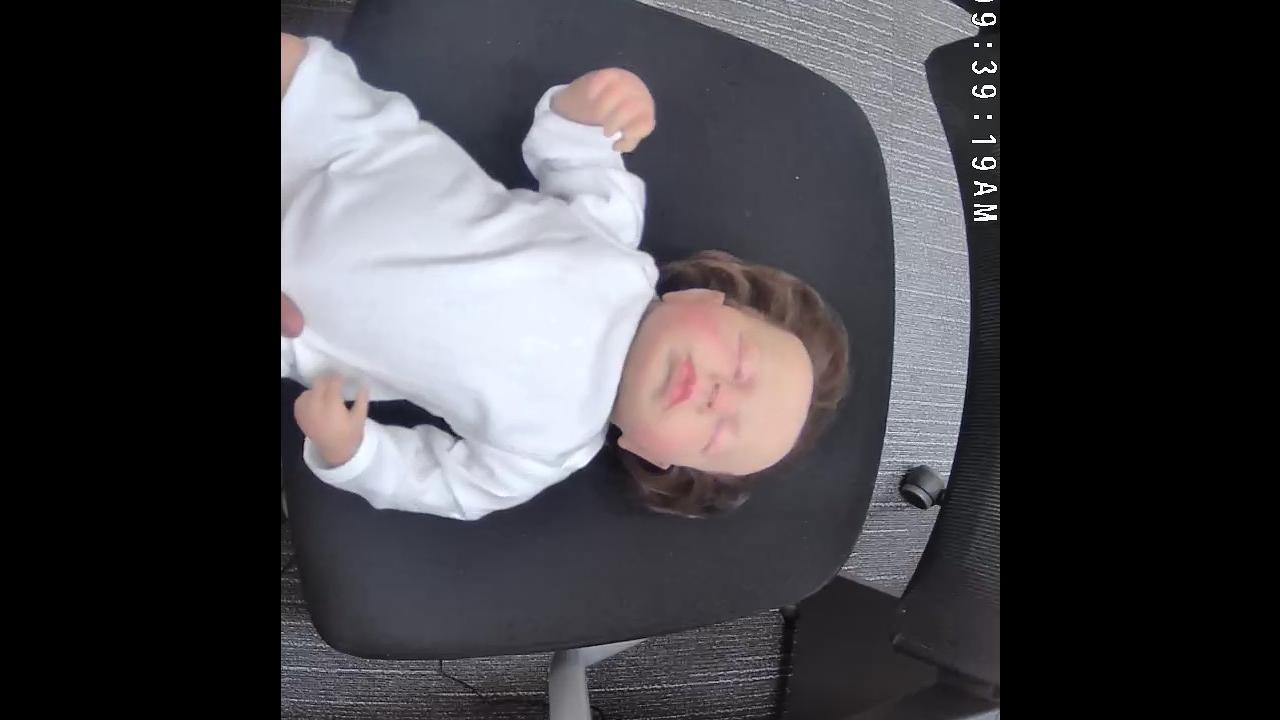hand: (575, 70, 655, 157), (290, 373, 370, 445)
